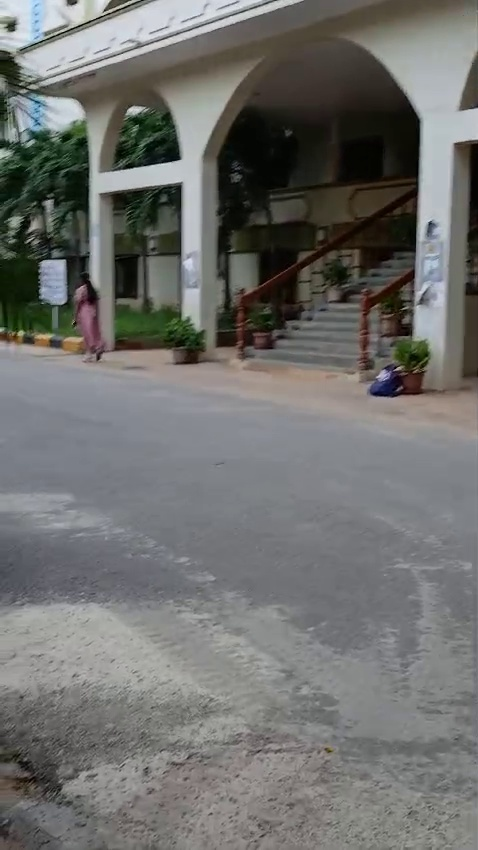bag: (365, 365, 400, 403)
